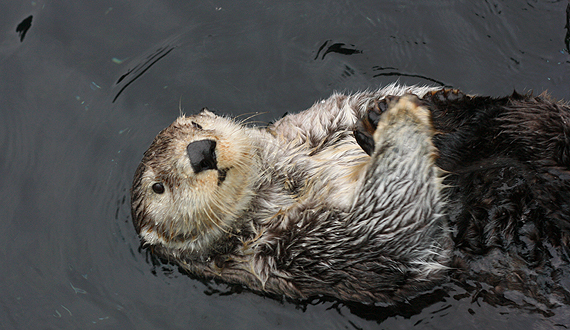otter: (85, 48, 570, 306)
